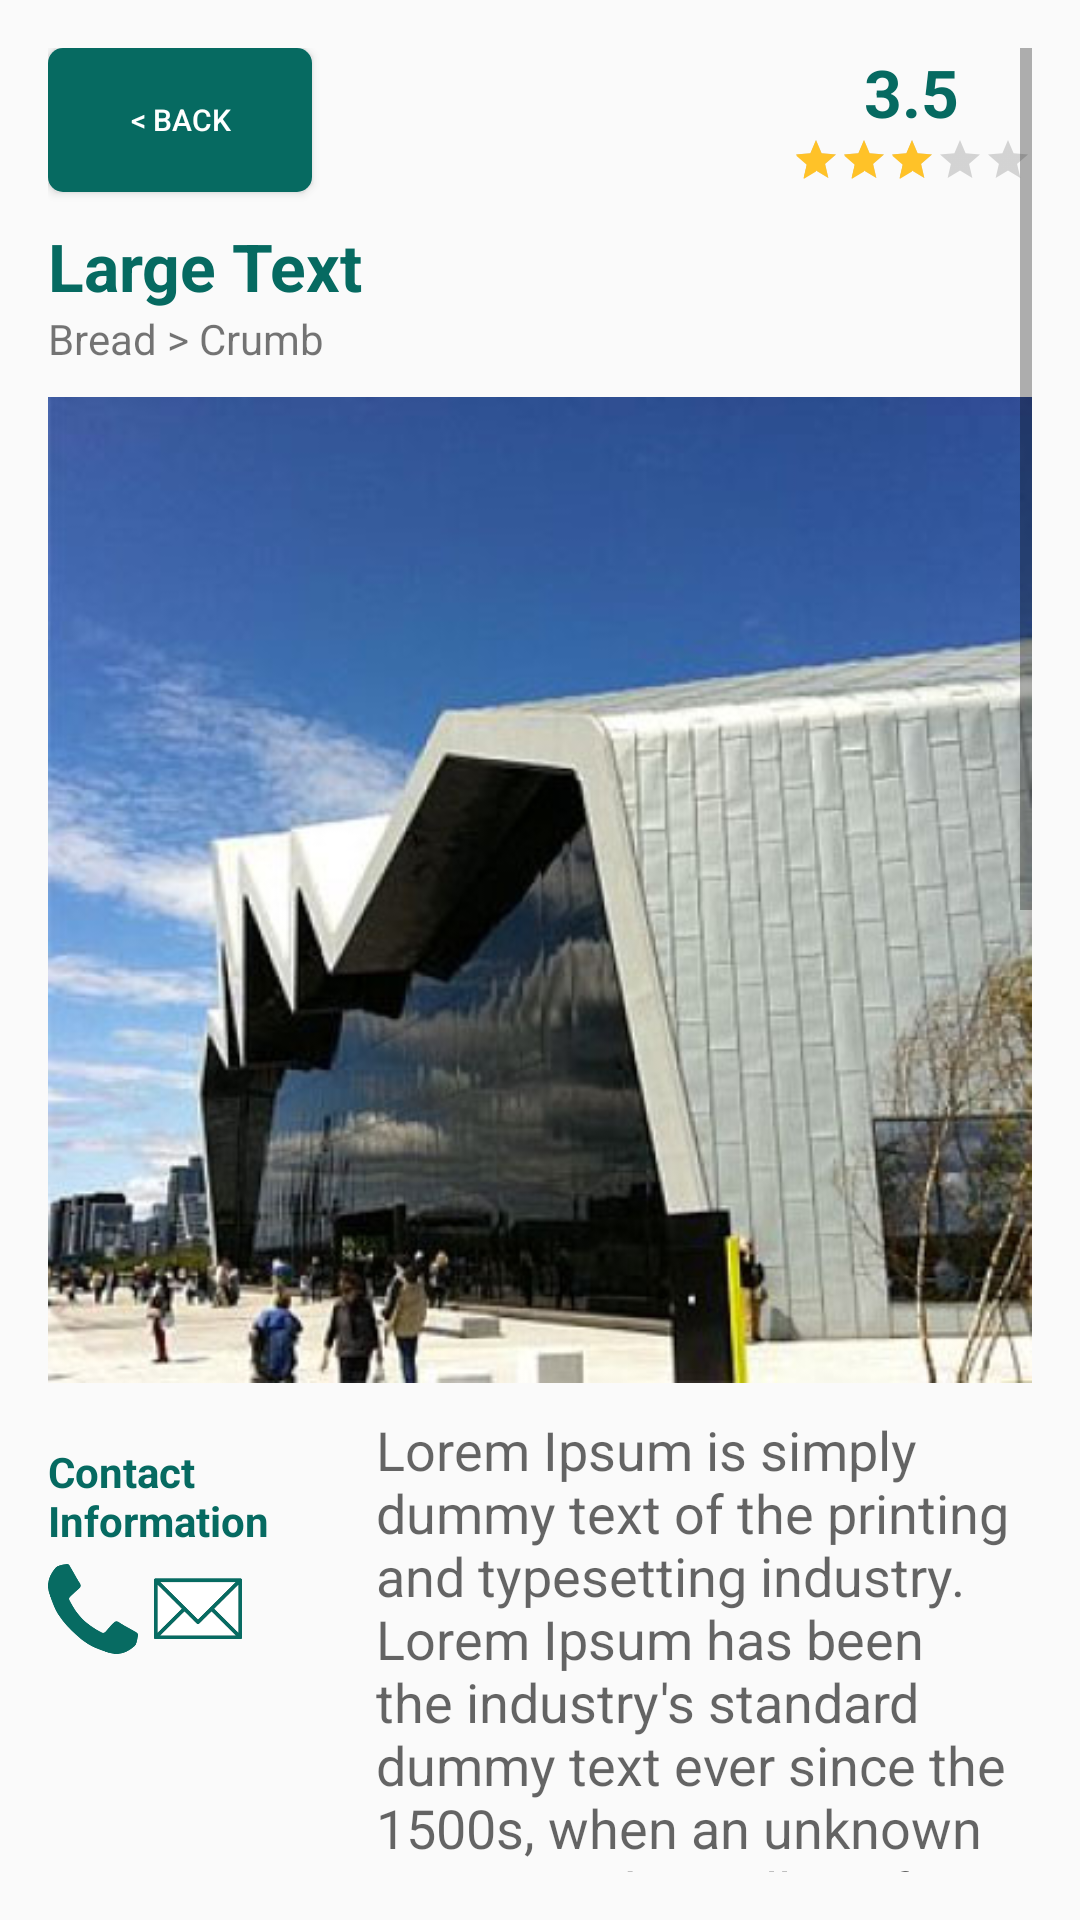

Where icons sit on this 1080×1920 app screen, as (x1, y1, x2, y2):
email: (154, 1578, 242, 1639)
phone: (48, 1564, 138, 1654)
